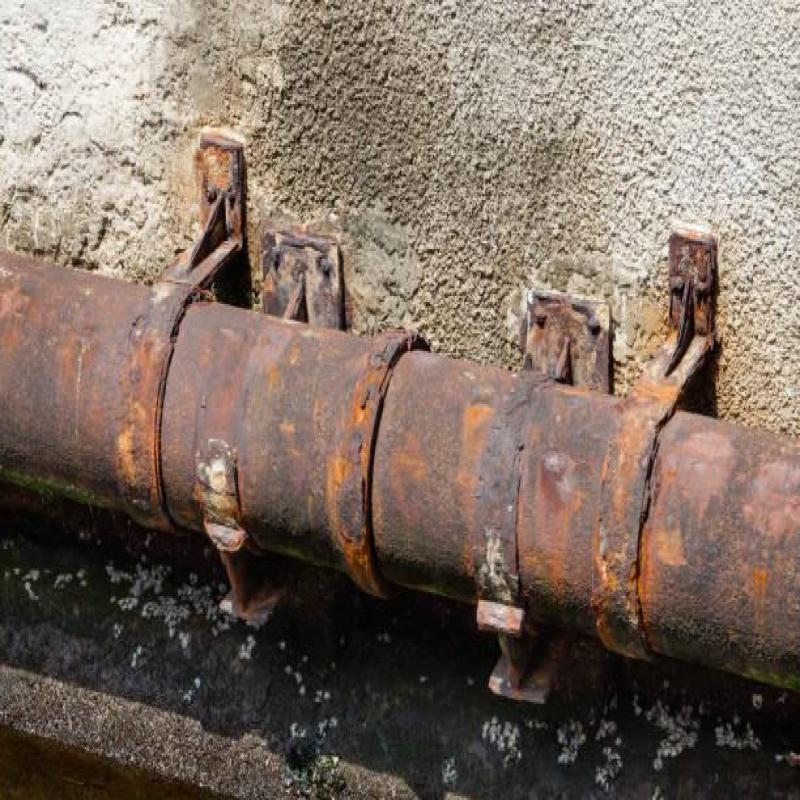Fracture: (8, 247, 800, 683)
